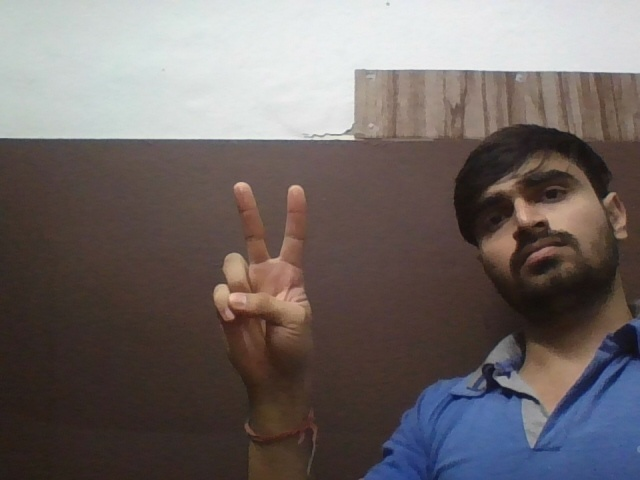V: (203, 173, 336, 389)
